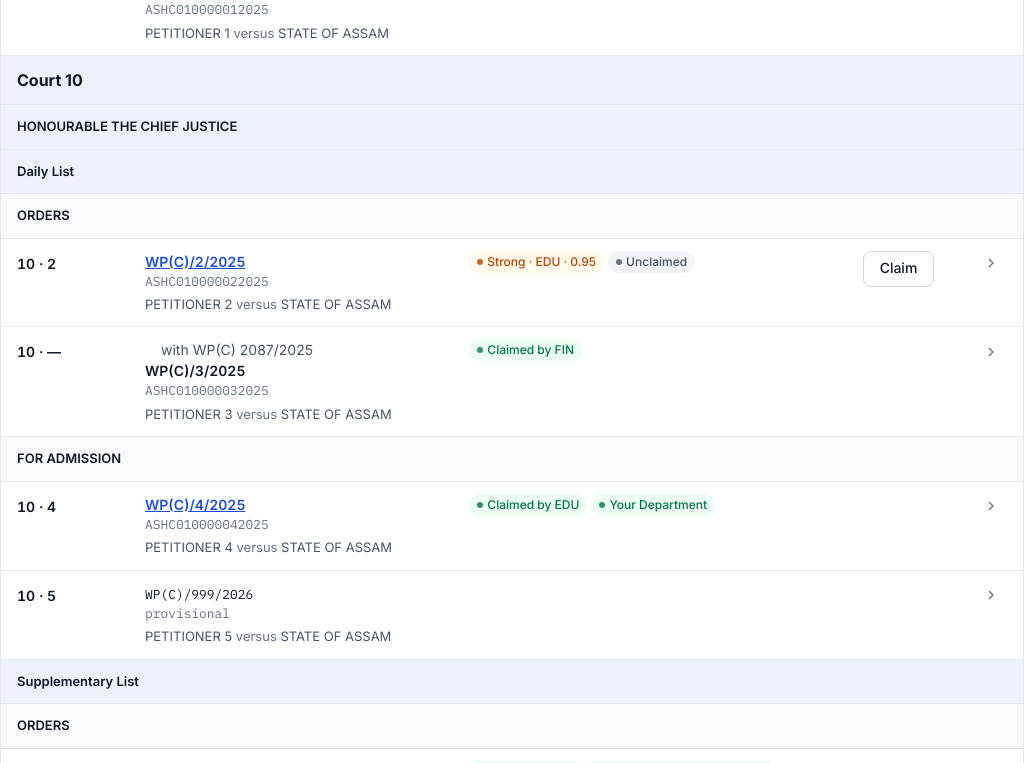
Scenario: the Work list template (portal-ui-redesign, decision 26) › an entry the caller cannot open has no Open case page in its panel
The image size is (1024, 763).
(page scrolled)
Step 1. Click the row named "Details of WP(C)/3/2025" → [512, 382], box [1,327,1023,437]
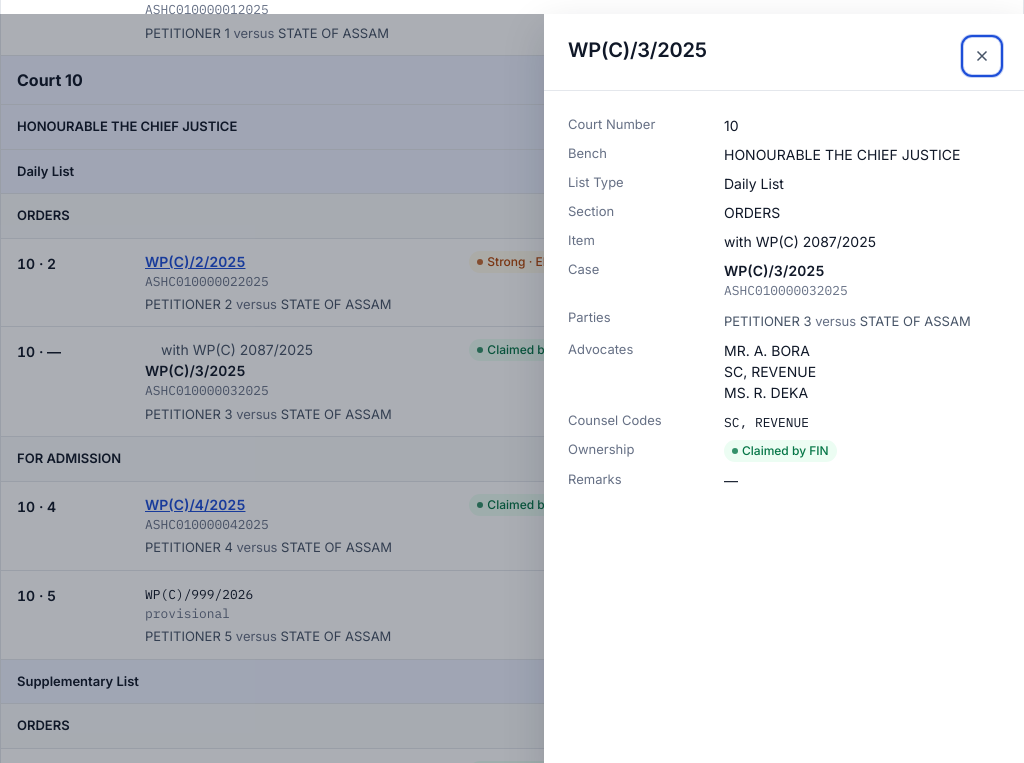
Result: the text "with WP(C) 2087/2025" is shown at [724,233,876,250]
